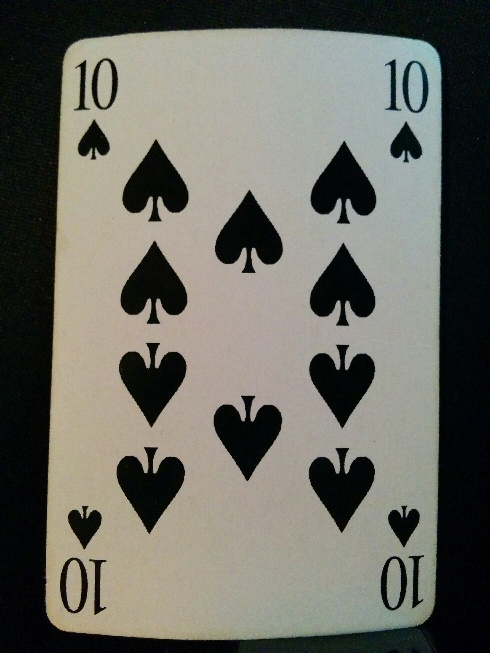S10: (59, 502, 110, 616), (379, 503, 429, 614), (71, 55, 120, 164), (384, 55, 431, 165)
